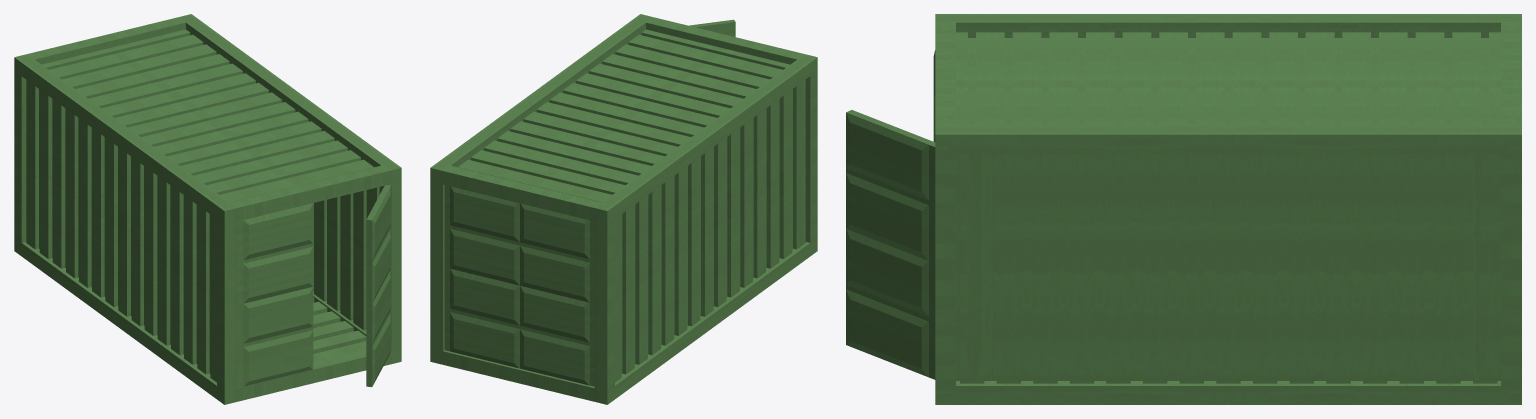
File: Container.glb
The picture shows the model from 3 angles, left to right: view 1: azimuth 30°, elevation 25°; view 2: azimuth 150°, elevation 25°; view 3: azimuth 270°, elevation 25°; orthographic projection. The views are drawn at different scales.
Parts seen in each view (by area): view 1: Container, TuerB, TuerA; view 2: Container, TuerB.001, TuerA.001, TuerA; view 3: Container, TuerA.
Boxes of the visible parts, left/top/right/bottom form: Container: left=14, top=14, right=401, bottom=404; TuerB: left=237, top=203, right=313, bottom=387; TuerA: left=366, top=184, right=391, bottom=386; Container: left=430, top=14, right=817, bottom=404; TuerB.001: left=444, top=185, right=519, bottom=368; TuerA.001: left=520, top=203, right=594, bottom=386; TuerA: left=689, top=19, right=735, bottom=36; Container: left=935, top=14, right=1521, bottom=404; TuerA: left=846, top=110, right=935, bottom=379.
Bounding box in the file's own units: 10.74 × 11.22 × 25.41.
Materials: 1 (1 with a texture image).
